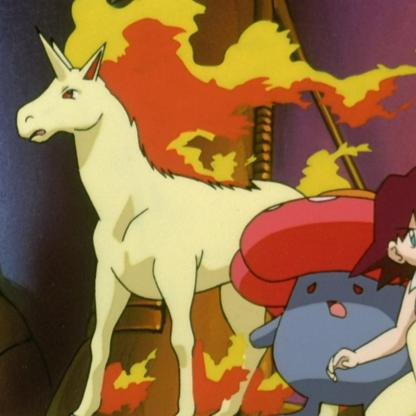Rapidash: (17, 1, 316, 409)
